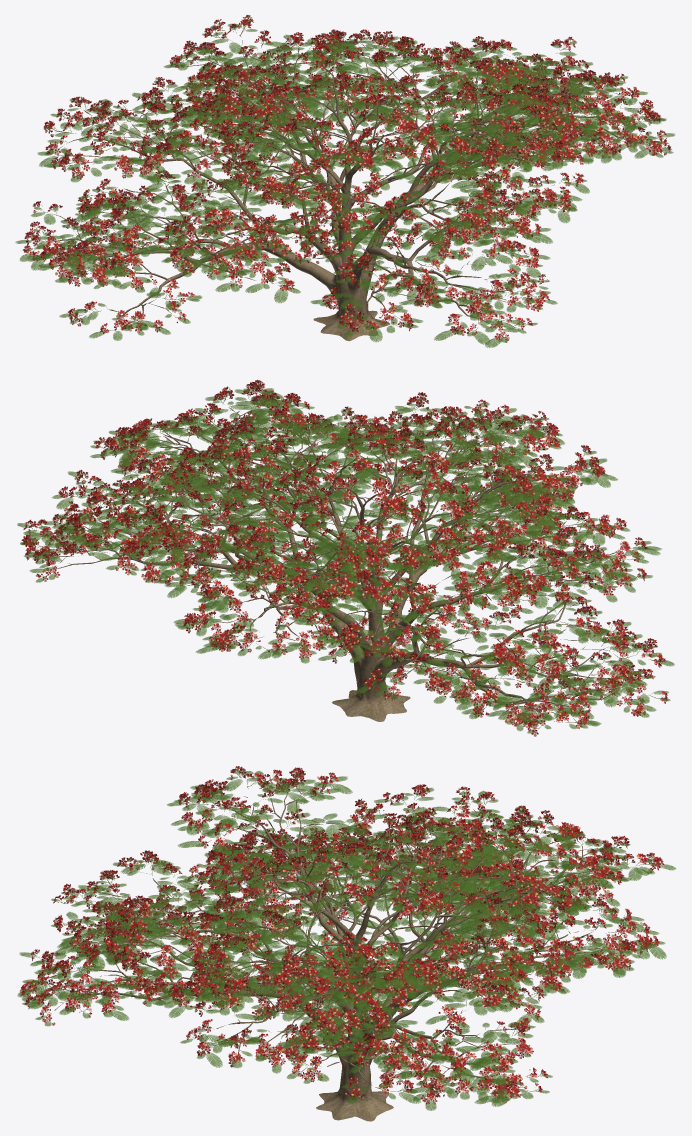
Rendered from krishnachura.glb.
The picture shows the model from 3 angles, top to bottom: view 1: azimuth 30°, elevation 25°; view 2: azimuth 150°, elevation 25°; view 3: azimuth 270°, elevation 25°; orthographic projection. The views are drawn at different scales.
Visible parts, largest first — view 1: Delonix_regia_HD; view 2: Delonix_regia_HD; view 3: Delonix_regia_HD.
Part boxes in pixels (left/top/right/bottom): Delonix_regia_HD: left=15, top=15, right=674, bottom=347; Delonix_regia_HD: left=17, top=379, right=674, bottom=736; Delonix_regia_HD: left=17, top=766, right=676, bottom=1121.
Size of the model in its own units: 12.27 by 5.1 by 11.15.
9 materials, 9 textured.
